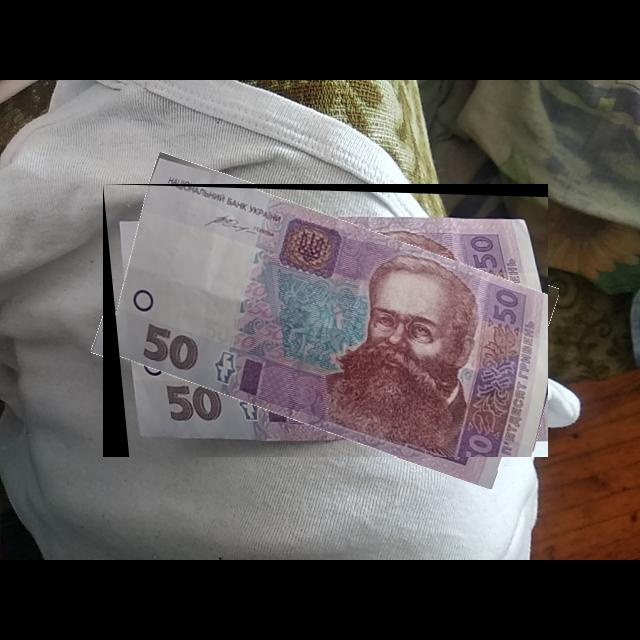50uah: (103, 184, 549, 458)
